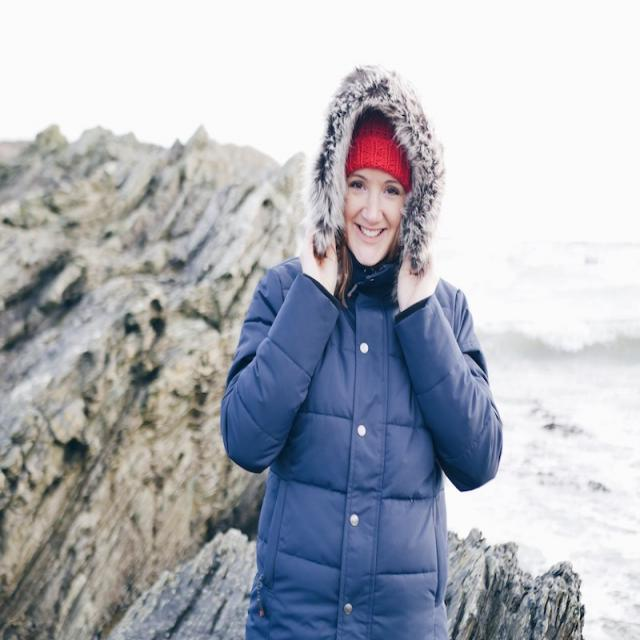coat: (217, 59, 509, 640)
